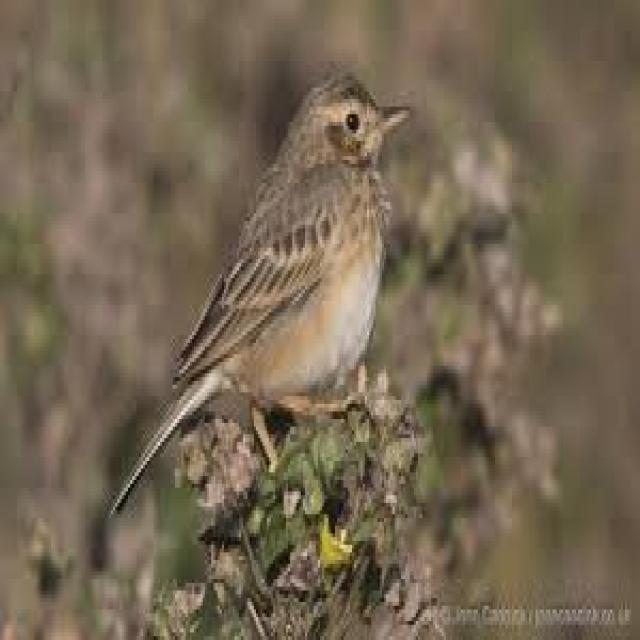bird: (104, 63, 425, 528)
